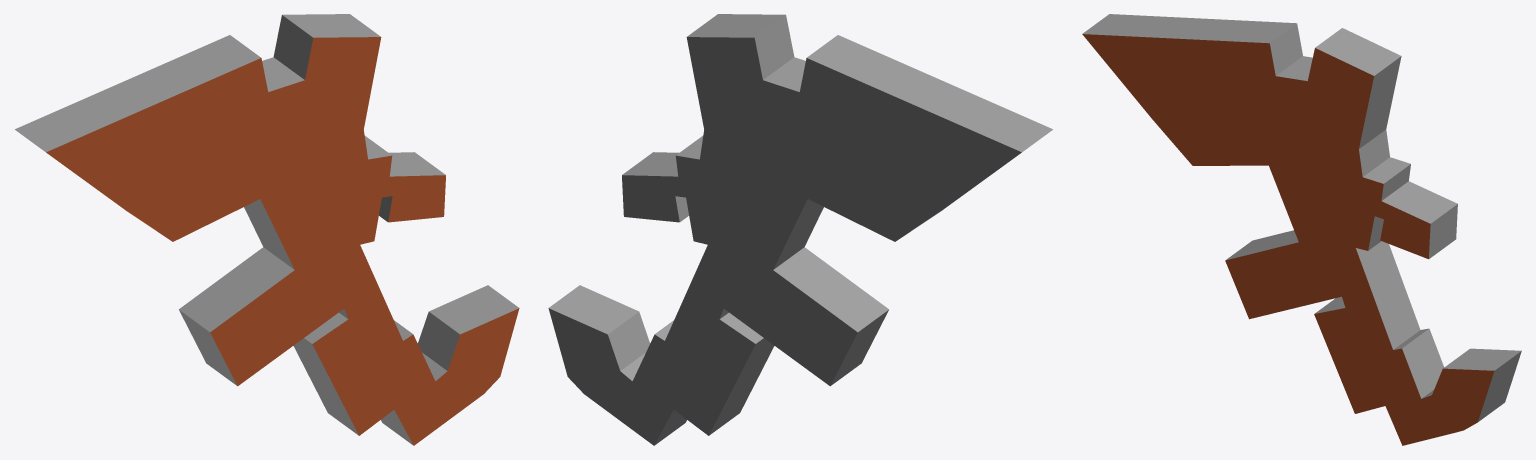
File: construction_4222_assumed_A_Casa_h6m.obj
The picture shows the model from 3 angles, left to right: view 1: azimuth 30°, elevation 25°; view 2: azimuth 150°, elevation 25°; view 3: azimuth 330°, elevation 25°; orthographic projection. The views are drawn at different scales.
Visible parts, largest first — view 1: construction_4222_assumed_A_Casa; view 2: construction_4222_assumed_A_Casa; view 3: construction_4222_assumed_A_Casa.
Part boxes in pixels (<box>): construction_4222_assumed_A_Casa: <box>15,14,519,445</box>; construction_4222_assumed_A_Casa: <box>548,14,1052,445</box>; construction_4222_assumed_A_Casa: <box>1082,14,1521,445</box>.
Bounding box in the file's own units: 52.19 × 45.56 × 6.
